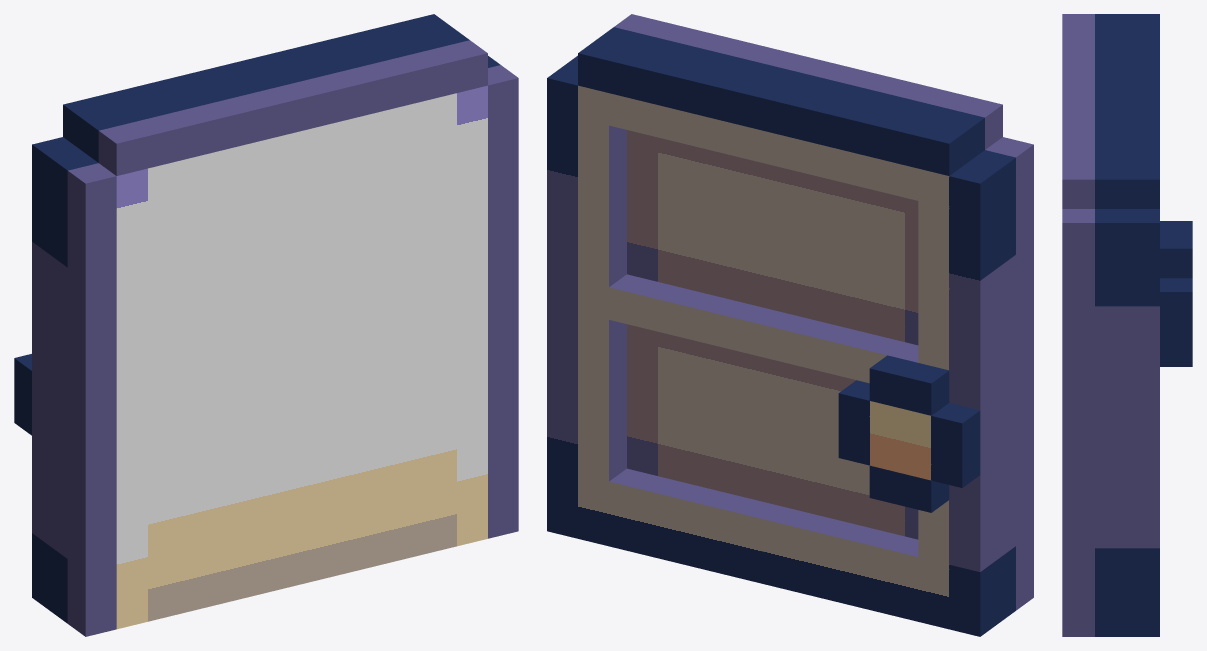
The model's file is Door.gltf.
3 renders of one model, left to right at view 1: azimuth 30°, elevation 25°; view 2: azimuth 150°, elevation 25°; view 3: azimuth 270°, elevation 25°, orthographic. The views are drawn at different scales.
Parts seen in each view (by area): view 1: bg, door; view 2: door, bg; view 3: door, bg.
Boxes of the visible parts, x1,y1,x2,y2 form: bg: (67, 40, 518, 636); door: (14, 14, 500, 623); door: (547, 27, 1015, 636); bg: (614, 14, 1033, 610); door: (1095, 14, 1192, 636); bg: (1062, 14, 1094, 636).
Bounding box in the file's own units: 0.875 × 0.9375 × 0.25.
2 materials, 2 textured.
